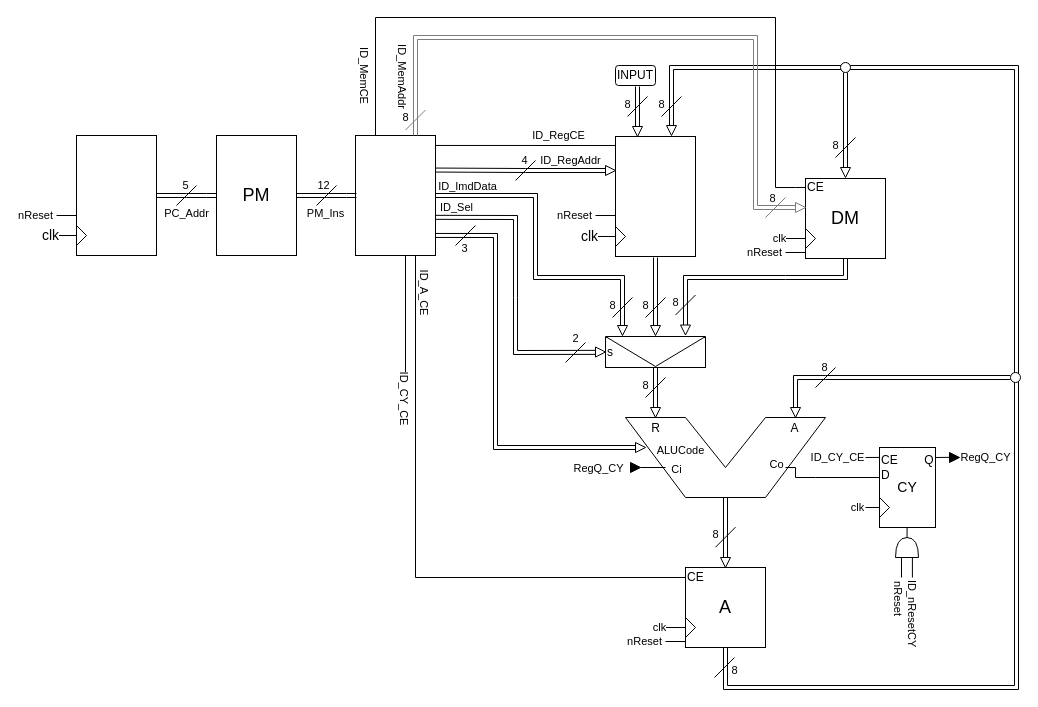
This 1038x707 diagram has some shape labels left out. Each missing label, with the centre of its shape:
ID: pixel 395 195
PC: pixel 116 195
RF: pixel 655 196
